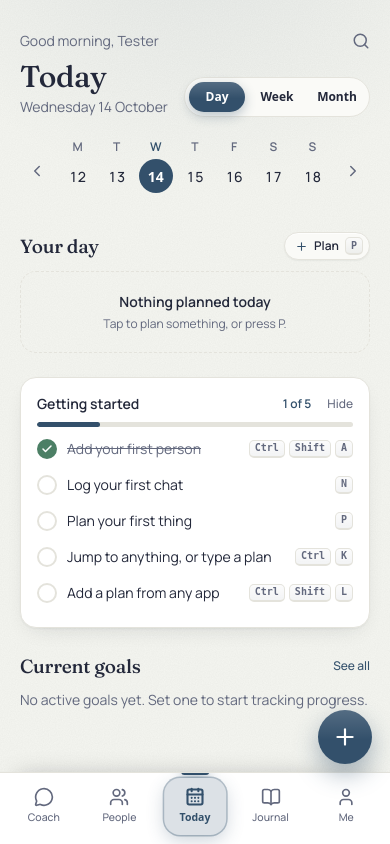
Test case: sync through OneDrive, once it is on › a passphrase that no longer opens the file (changed on another device) says so and changes nothing
Click the button "Me": (346, 807) [308, 781, 384, 832]
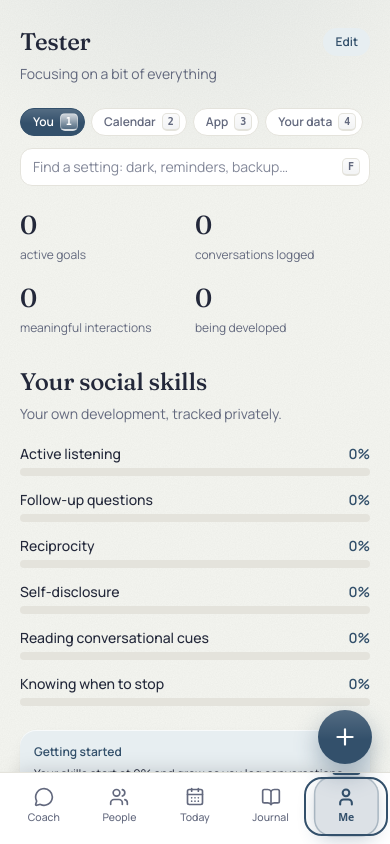
Click the tab "Your data 4": (314, 122) [265, 108, 363, 136]
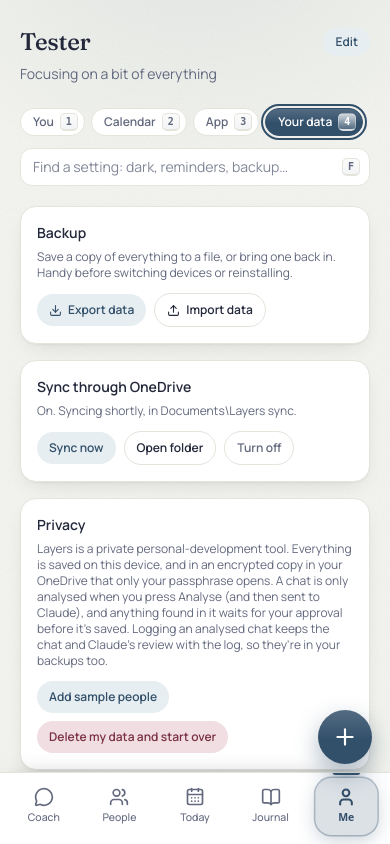
Click the button "Sync now": (76, 448) [37, 432, 116, 464]
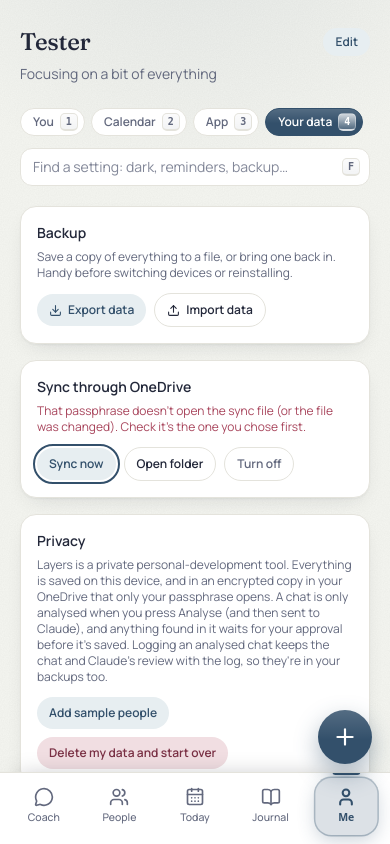
Expected: the message shows "That passphrase doesn't open the sync file (or the file was changed). Check it's the one you chose first.", [37, 402, 333, 435]
